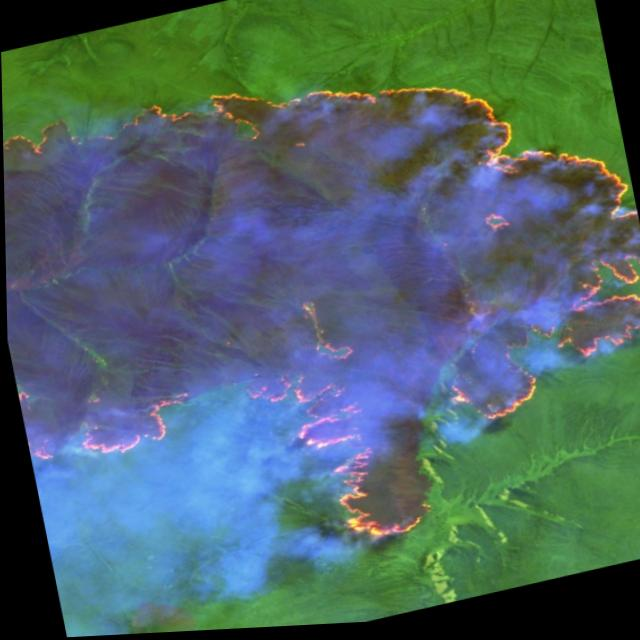fire: (0, 0, 640, 627)
